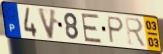4: (23, 6, 39, 39)
8: (63, 12, 80, 41)
E: (80, 13, 103, 44)
P: (107, 15, 126, 45)
R: (124, 16, 148, 49)
V: (36, 7, 58, 42)
